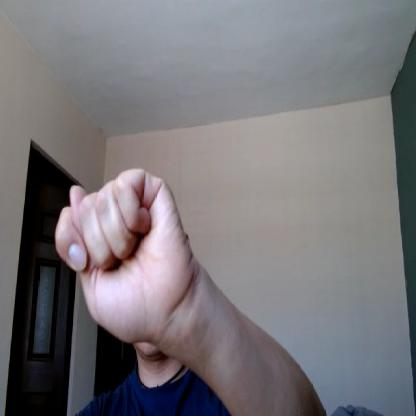T: (53, 163, 190, 340)
